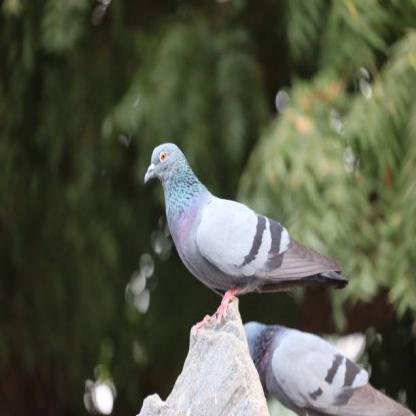Rock Pigeon: (142, 144, 348, 296), (246, 315, 377, 409)
